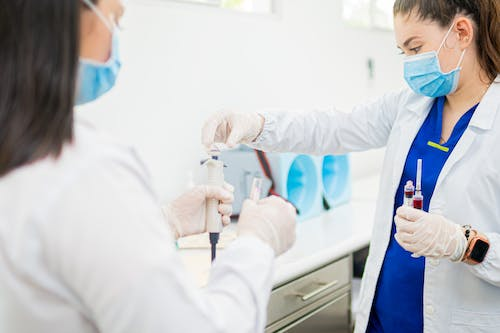blood: (402, 179, 414, 206), (413, 193, 425, 211)
